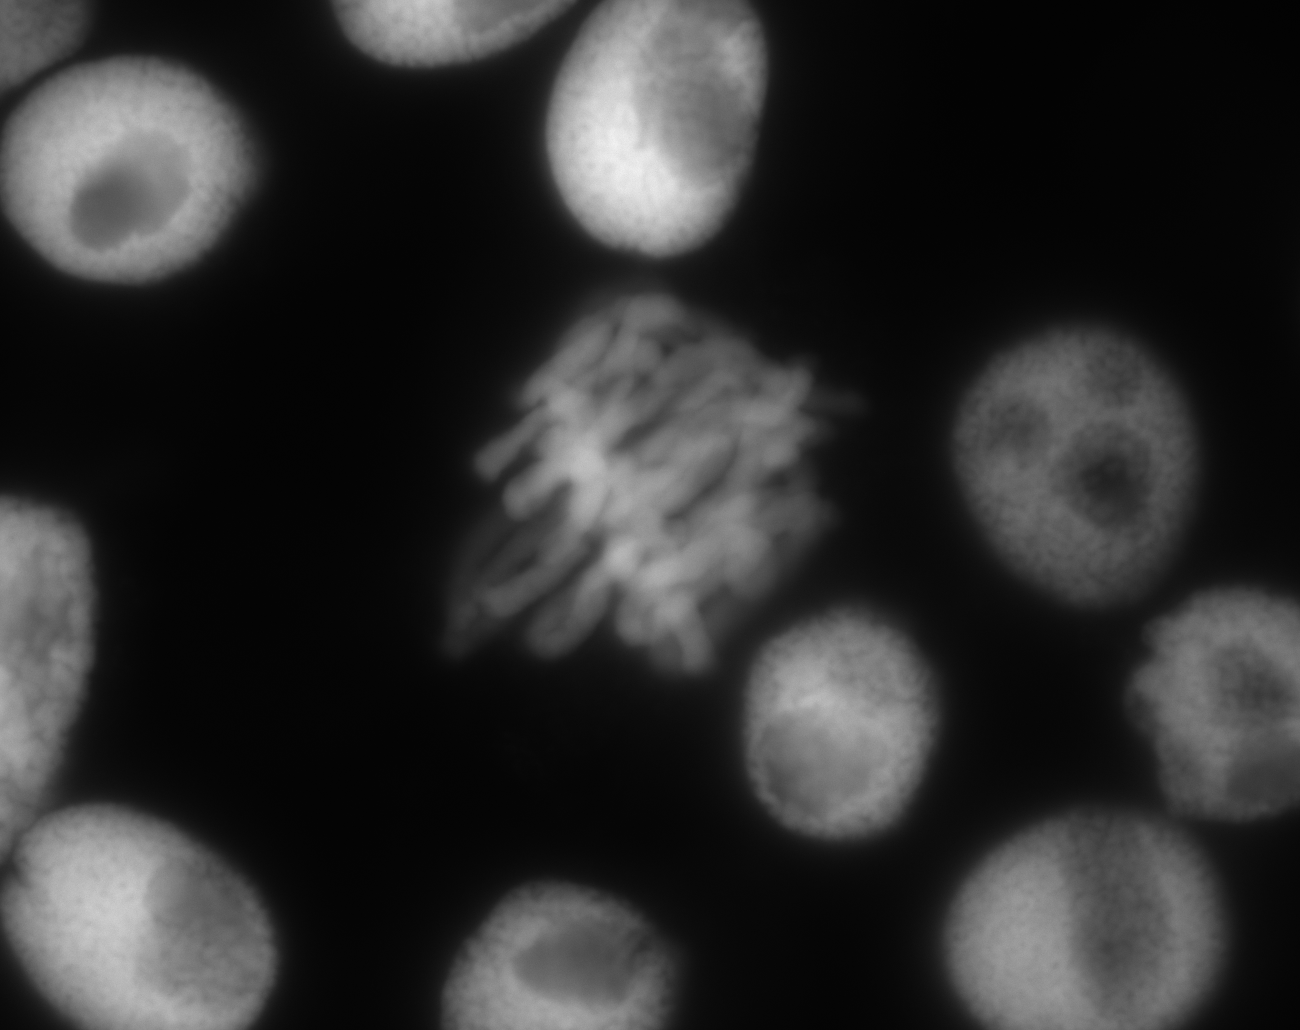Chromosomes: (399, 245, 864, 735)
Others: (928, 264, 1234, 631), (3, 32, 311, 321), (893, 784, 1254, 1030), (1, 767, 333, 1030), (729, 569, 969, 874), (524, 11, 797, 264), (407, 856, 726, 1029), (1119, 567, 1296, 839)
